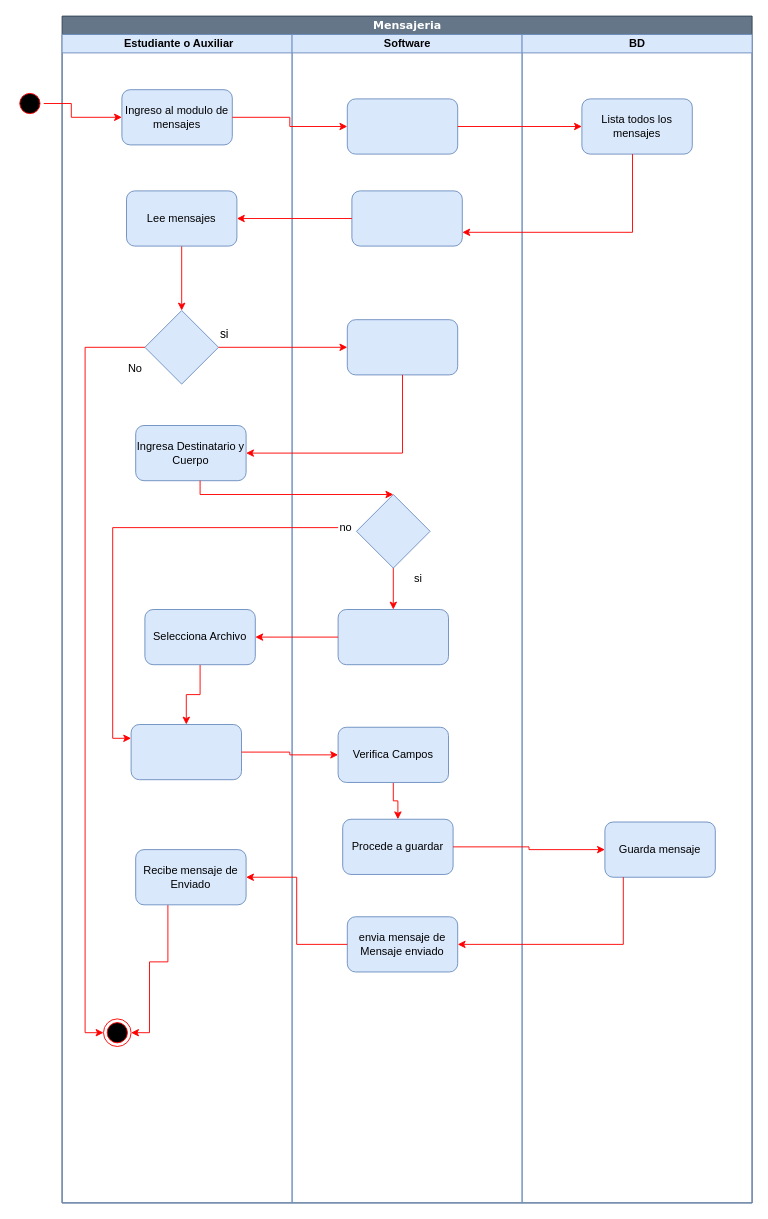
The diagram is 768 pixels wide and 1219 high, and some of its shapes have lost their labels. Each missing label, with the centre of its shape:
"agregar archivo?" goes at (393,531).
"Muestra mensajes" goes at (406,218).
"Pide archivo adjunto" goes at (392,637).
"Pide destinatario y Cuerpo del mensaje" goes at (402,347).
"Presiona eviar" goes at (186,752).
"responder?" goes at (181,347).
"Sistema consulta mensajes para el usuario" goes at (402,126).
